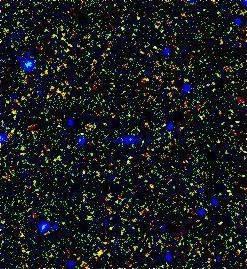star: (85, 240, 115, 269)
